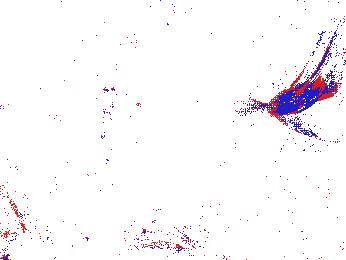glassfish: (268, 1, 346, 118)
